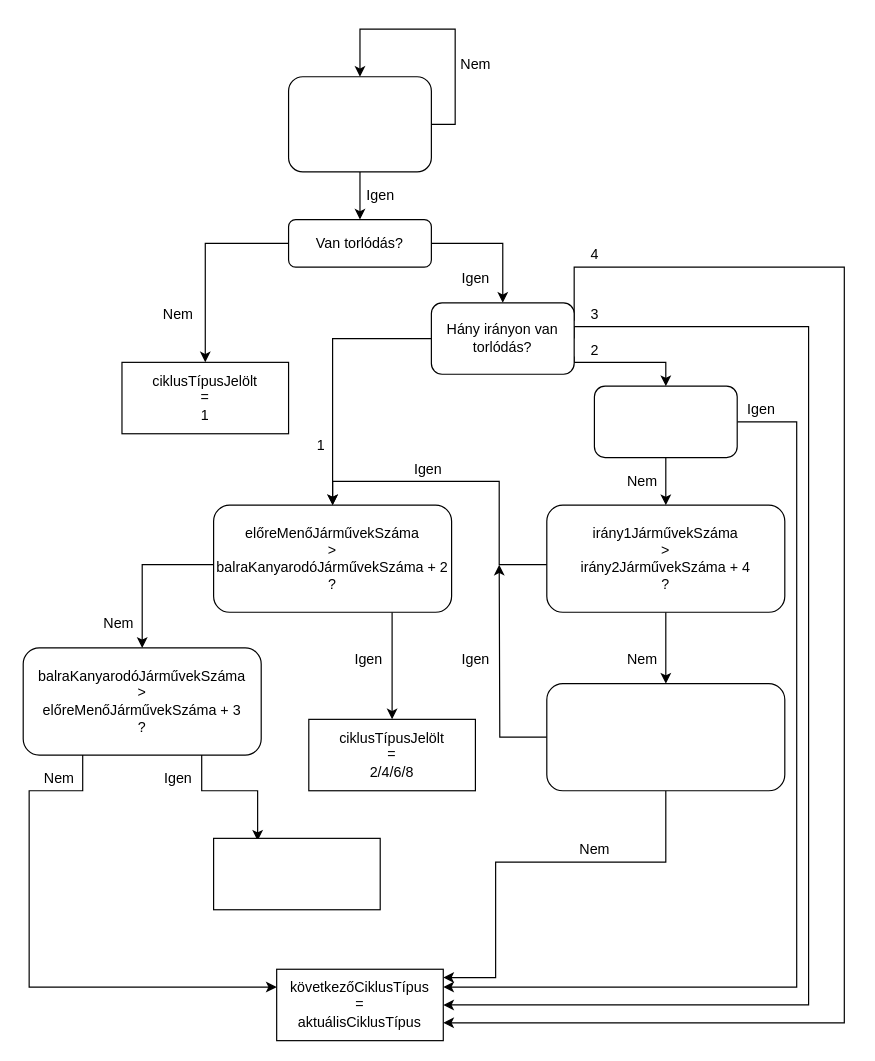
Image size: 875x1061. Some labels were removed from this diagram. Here are the shapes that lost their labels. From the top down, the centre of each, then its label:
the point at 359,124: következőCiklusTípus = aktuálisCiklusTípus ?
the point at 665,421: Átellenes irányok?
the point at 665,736: irány2JárművekSzáma > irány1JárművekSzáma + 4 ?
the point at 296,873: ciklusTípusJelölt = 3/5/7/9
